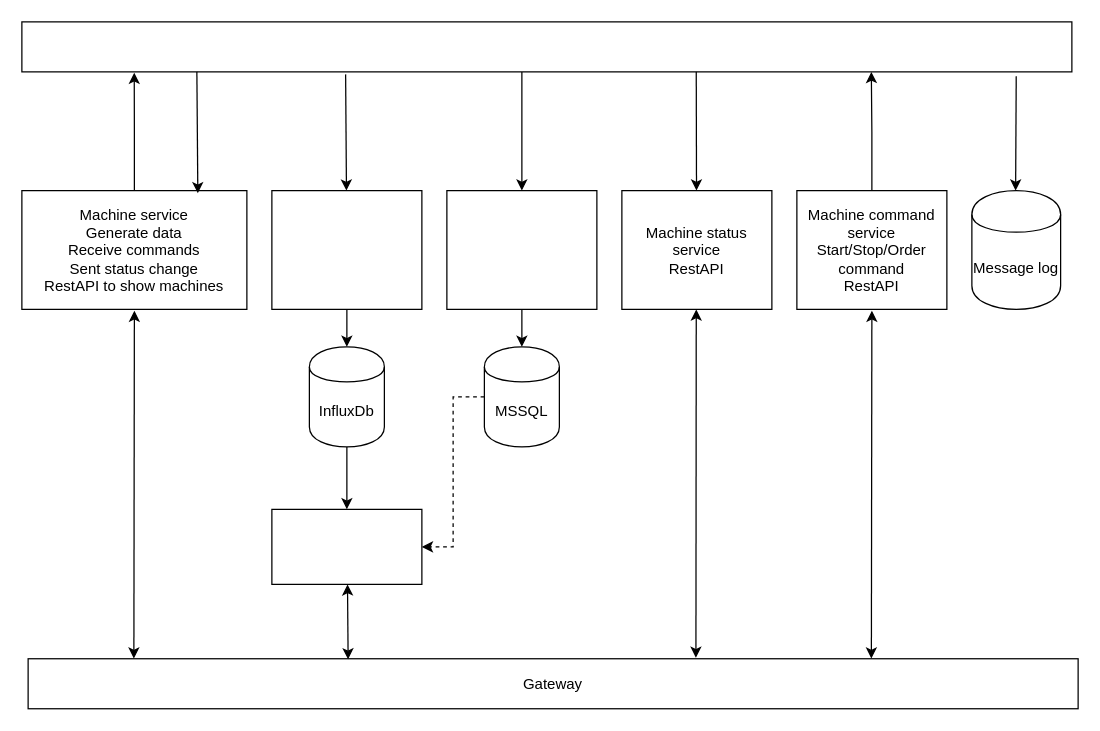
Image size: 1100x731. Some labels were removed from this diagram. Each missing label, with the box of its shape:
InfluxDB service: (271, 189, 422, 309)
Machine data service RestAPI: (271, 508, 422, 584)
RabbitMQ: (21, 21, 1072, 72)
SQL service: (446, 189, 597, 309)
